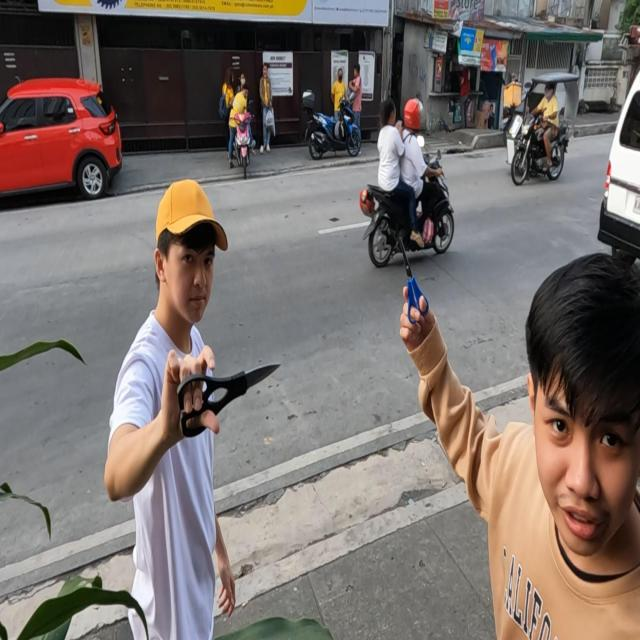scissor: (176, 360, 282, 437), (400, 233, 430, 325)
